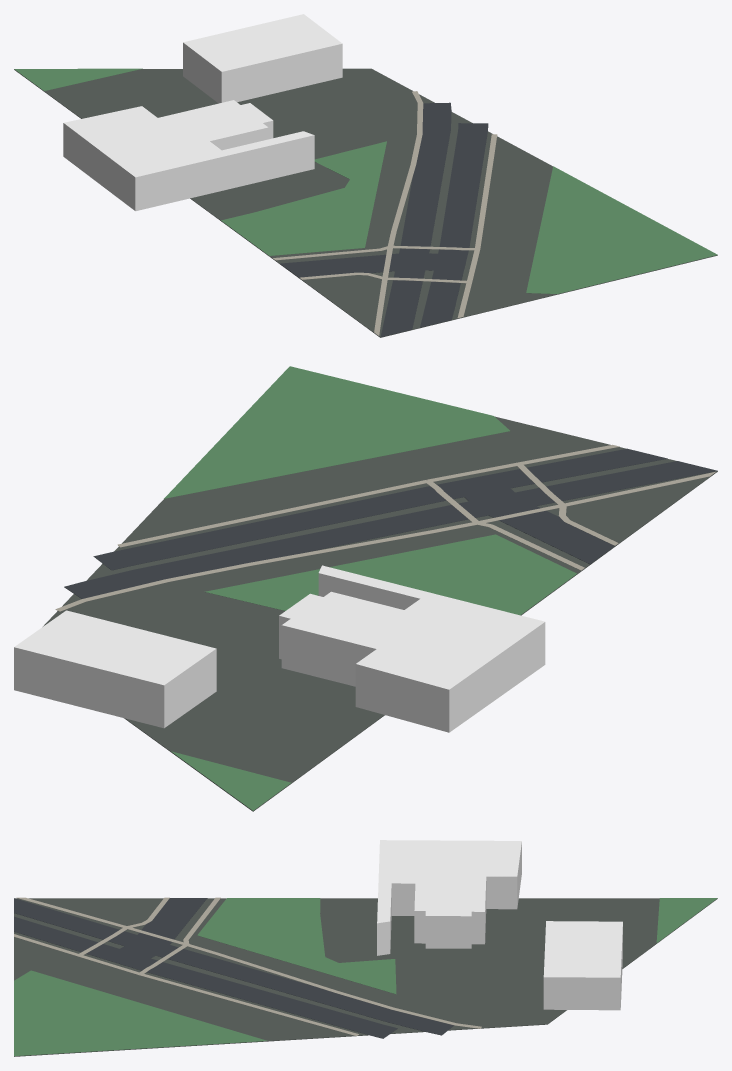
The model's file is tile_008_009.glb.
The picture shows the model from 3 angles, top to bottom: view 1: azimuth 30°, elevation 25°; view 2: azimuth 150°, elevation 25°; view 3: azimuth 270°, elevation 25°; orthographic projection. The views are drawn at different scales.
Parts seen in each view (by area): view 1: tile_008_009_ground, tile_008_009_buildings_neutral, tile_008_009_open_spaces, tile_008_009_roads, tile_008_009_paths; view 2: tile_008_009_ground, tile_008_009_buildings_neutral, tile_008_009_open_spaces, tile_008_009_roads, tile_008_009_paths; view 3: tile_008_009_ground, tile_008_009_open_spaces, tile_008_009_buildings_neutral, tile_008_009_roads, tile_008_009_paths.
Boxes of the visible parts, left/top/right/bottom form: tile_008_009_ground: left=14, top=68, right=717, bottom=337; tile_008_009_buildings_neutral: left=63, top=14, right=342, bottom=211; tile_008_009_open_spaces: left=14, top=68, right=717, bottom=293; tile_008_009_roads: left=280, top=102, right=488, bottom=337; tile_008_009_paths: left=273, top=91, right=497, bottom=335; tile_008_009_ground: left=43, top=416, right=717, bottom=811; tile_008_009_buildings_neutral: left=14, top=565, right=545, bottom=732; tile_008_009_open_spaces: left=164, top=366, right=576, bottom=810; tile_008_009_roads: left=64, top=448, right=717, bottom=598; tile_008_009_paths: left=55, top=444, right=715, bottom=611; tile_008_009_ground: left=14, top=898, right=717, bottom=1056; tile_008_009_open_spaces: left=14, top=898, right=717, bottom=1056; tile_008_009_buildings_neutral: left=377, top=840, right=622, bottom=1010; tile_008_009_roads: left=14, top=898, right=453, bottom=1038; tile_008_009_paths: left=14, top=897, right=481, bottom=1036.
Bounding box in the file's own units: 145 × 12.16 × 235.
